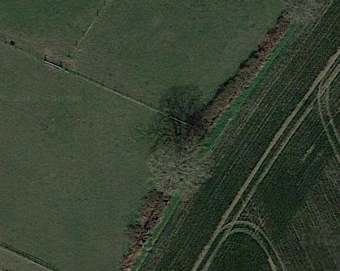tree: (142, 136, 218, 202)
